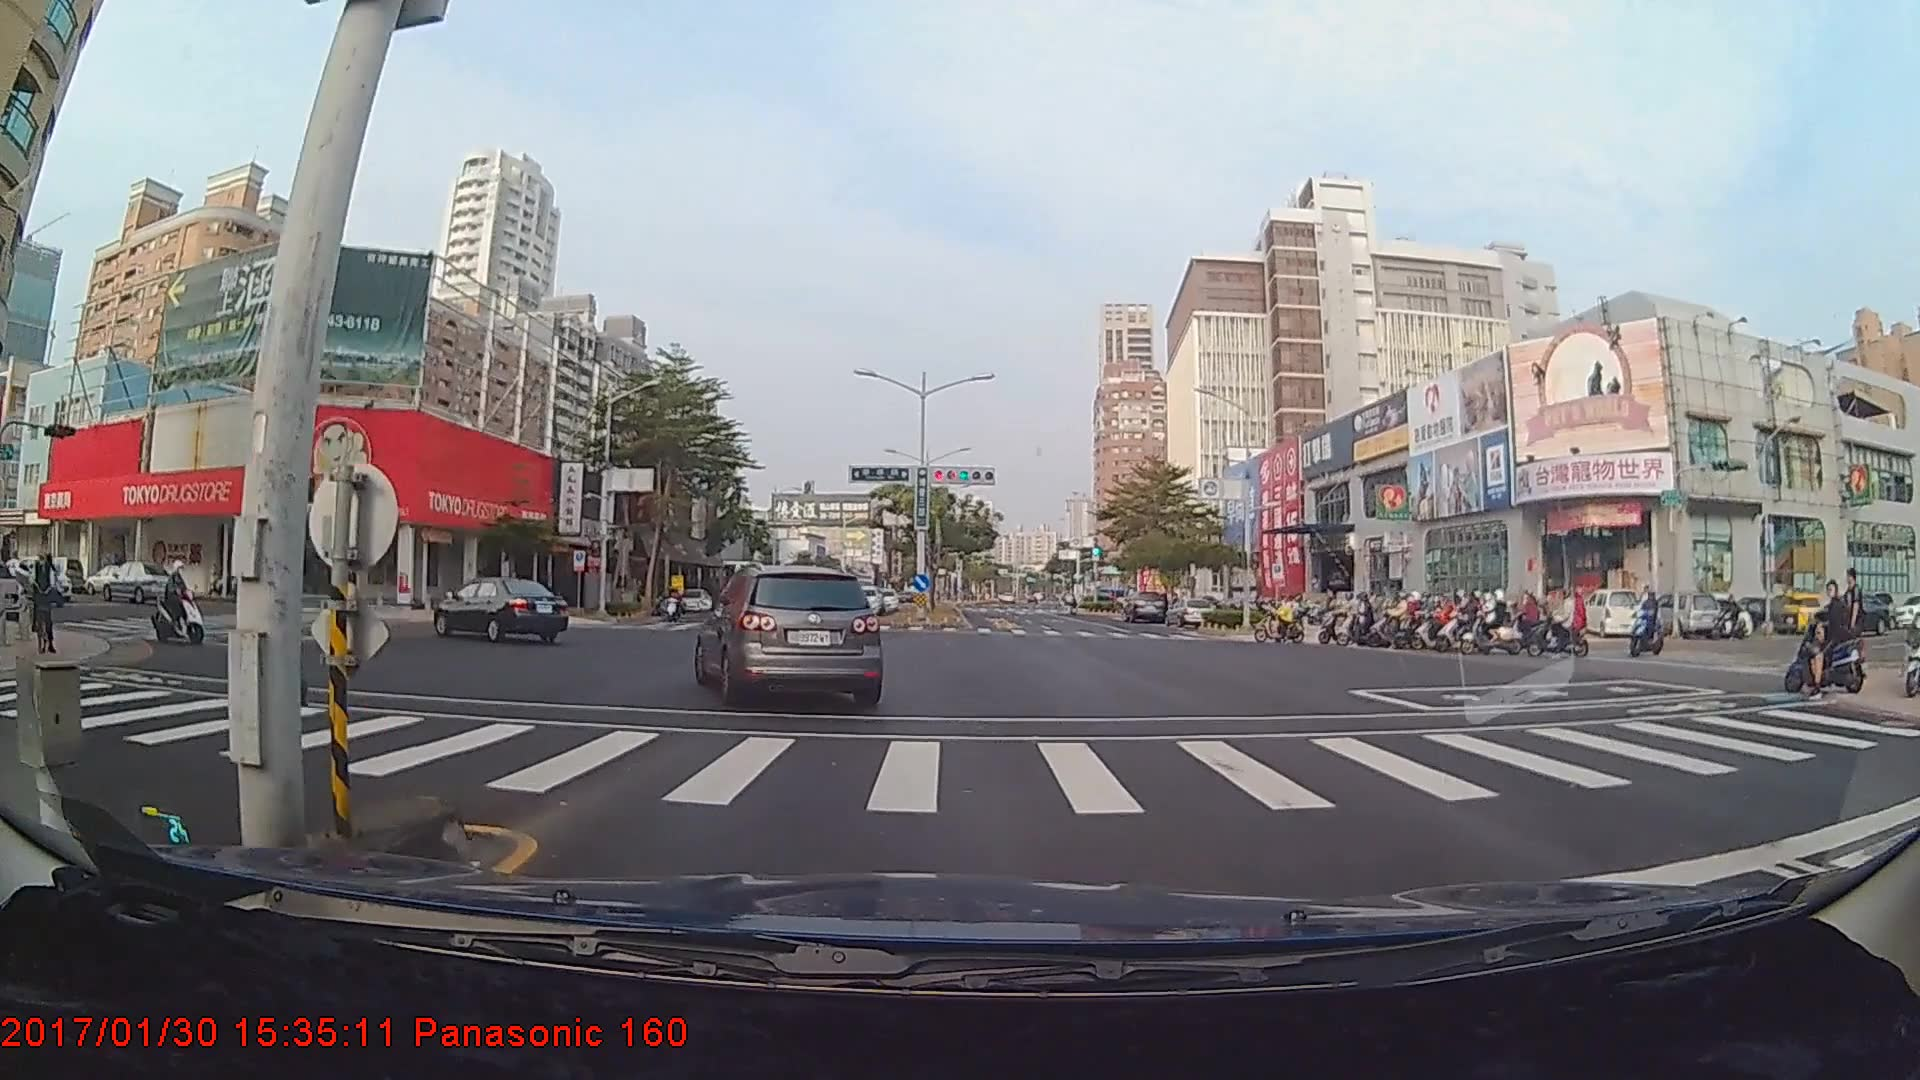pedestrian: (1840, 567, 1870, 681)
rider: (1787, 569, 1879, 699), (149, 559, 217, 648), (1524, 578, 1594, 663), (234, 571, 296, 642), (21, 555, 60, 662), (1470, 588, 1526, 654), (1306, 592, 1367, 646), (1440, 591, 1496, 647), (1352, 593, 1404, 648), (1251, 592, 1308, 642), (1630, 590, 1671, 657), (1412, 599, 1467, 648), (658, 584, 685, 621)
vehicle: (696, 562, 885, 702), (431, 577, 569, 645), (1119, 587, 1168, 624)
